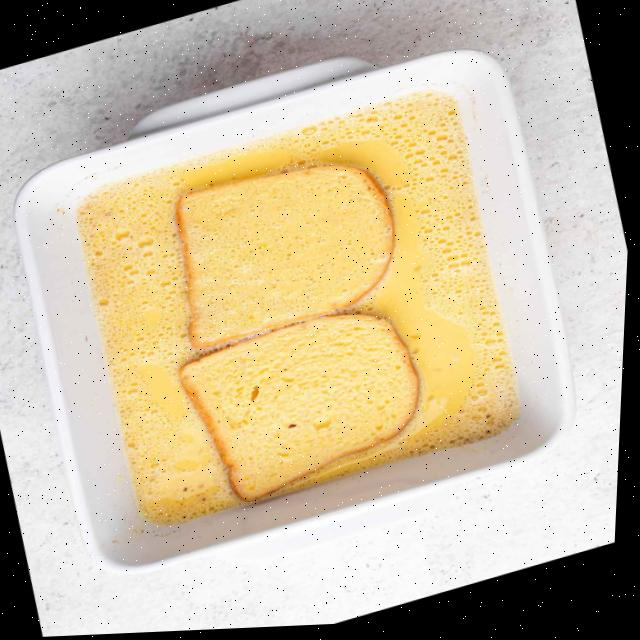Bread: (182, 318, 422, 503), (177, 169, 395, 350)
